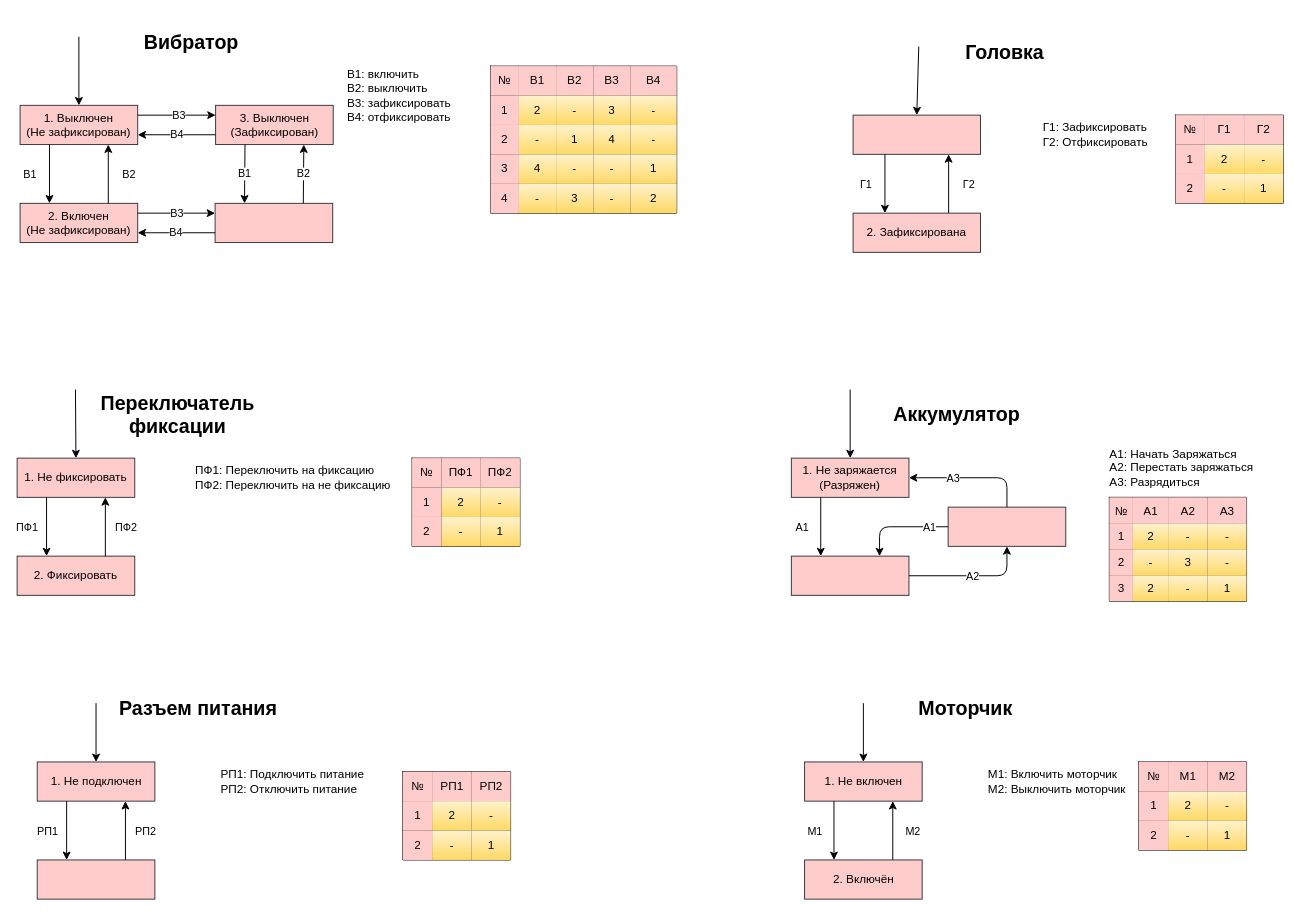
Image size: 1300x916. Some labels were removed from this diagram. Here are the shapes that lost their labels. From the top down, the box of each, then its label:
(852, 114, 980, 154): 1.Не зафиксирована
(214, 202, 333, 243): 4. Включен (Зафиксирован)
(947, 506, 1066, 546): 3. Не заряжается (Заряжен)
(790, 555, 909, 595): 2. Заряжается
(36, 859, 155, 899): 2. Подключен
